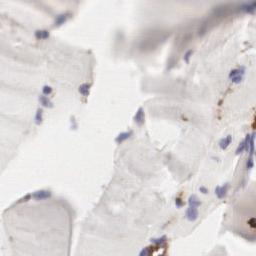nucleus: (133, 105, 144, 125), (215, 184, 229, 198), (188, 194, 202, 207), (114, 132, 132, 142), (39, 95, 54, 107), (187, 207, 199, 221), (219, 135, 231, 149), (79, 81, 91, 95), (249, 132, 256, 154), (32, 191, 51, 199), (35, 107, 43, 124), (235, 139, 244, 154), (245, 2, 256, 13), (184, 50, 193, 63), (70, 115, 78, 129), (152, 236, 166, 243), (228, 69, 240, 76), (247, 156, 254, 168), (231, 77, 244, 83), (42, 86, 53, 93), (245, 134, 249, 152), (41, 30, 49, 39), (201, 186, 209, 194), (56, 16, 64, 23), (35, 30, 40, 39), (139, 249, 146, 255), (176, 202, 183, 207)
positive_cell: (151, 236, 169, 248), (250, 118, 256, 153), (139, 246, 154, 256), (176, 192, 186, 207)
